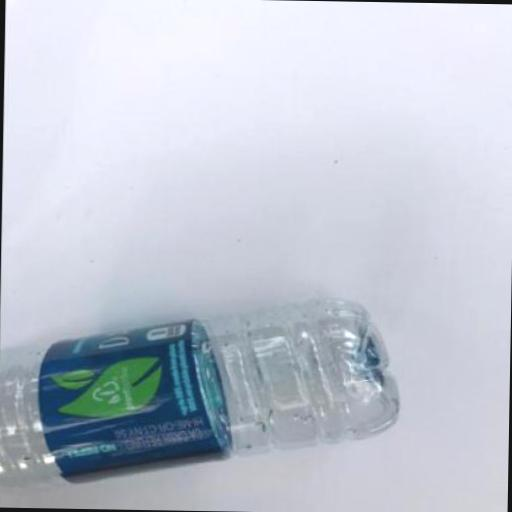plastic: (0, 290, 401, 495), (38, 316, 234, 486)
